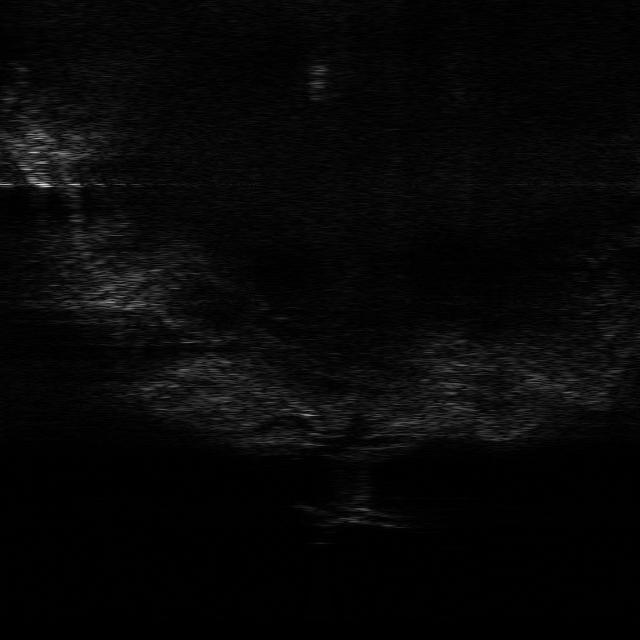plane: (296, 501, 408, 531)
